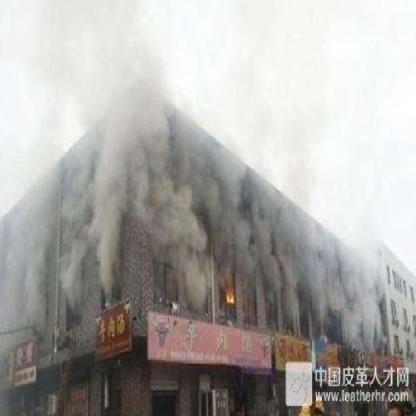fire: (216, 282, 238, 311)
smoke: (126, 82, 264, 281), (3, 103, 127, 318), (268, 178, 390, 340), (175, 278, 209, 322)
